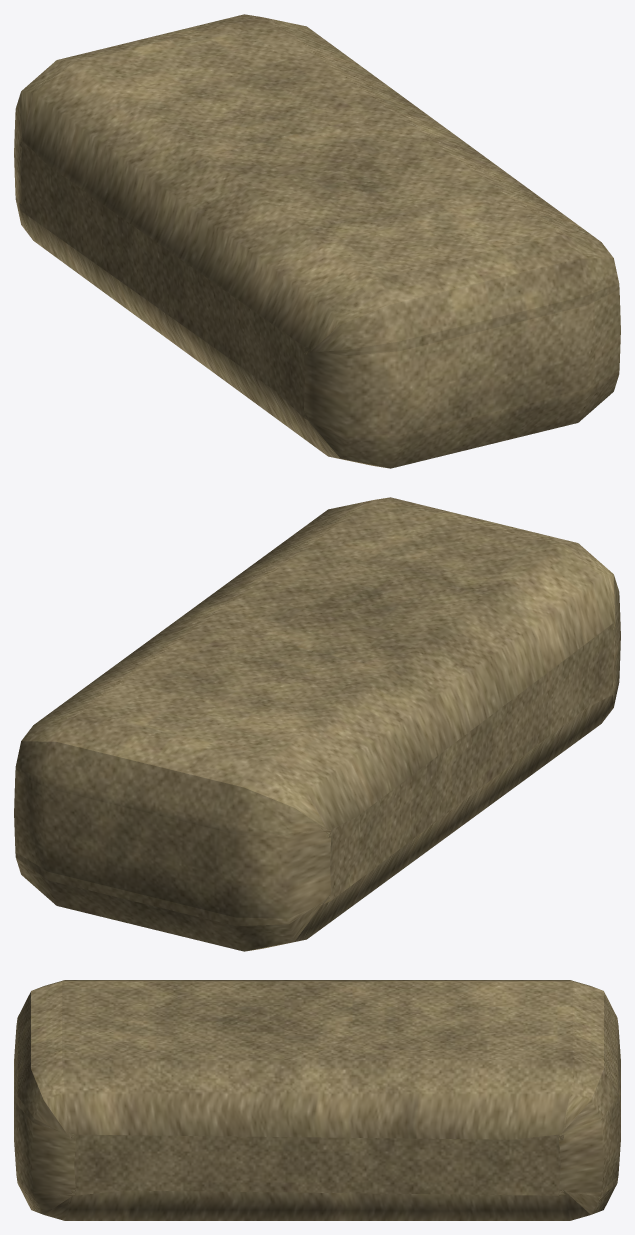
The model's file is sandbag.glb.
3 renders of one model, top to bottom at view 1: azimuth 30°, elevation 25°; view 2: azimuth 150°, elevation 25°; view 3: azimuth 270°, elevation 25°, orthographic. The views are drawn at different scales.
Parts seen in each view (by area): view 1: model; view 2: model; view 3: model.
Part boxes in pixels (<box>): model: <box>14,14,620,468</box>; model: <box>14,497,620,951</box>; model: <box>14,980,620,1220</box>.
Bounding box in the file's own units: 0.28 × 0.16 × 0.5555.
Materials: 1 (1 with a texture image).
